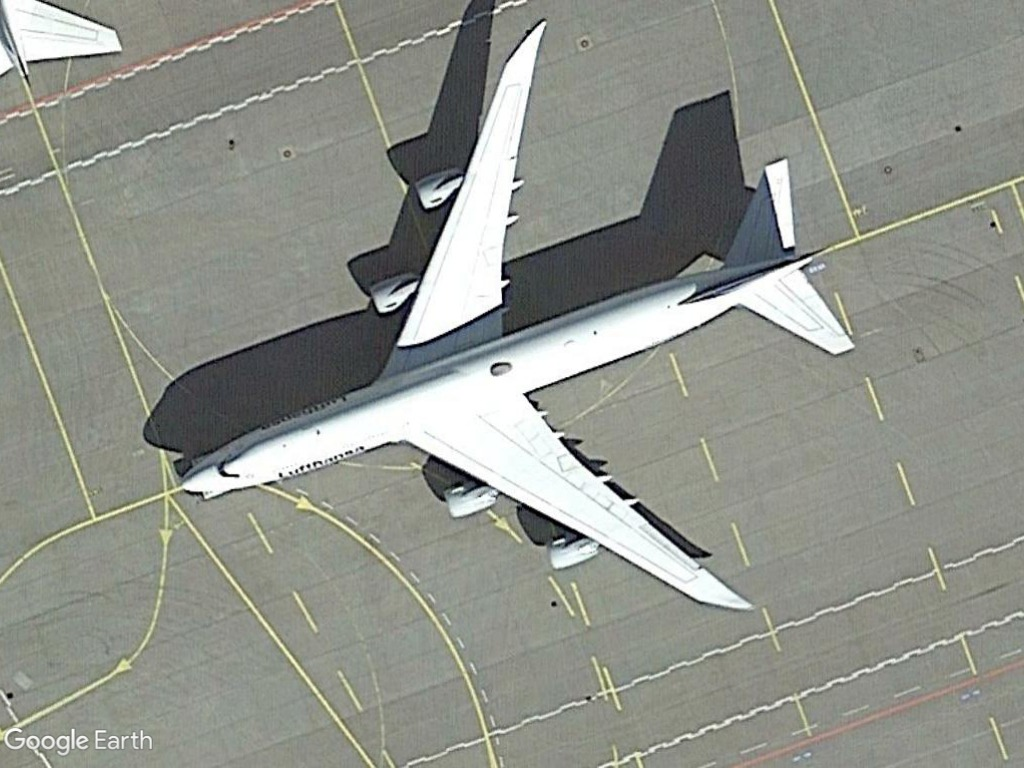airliner: (150, 6, 911, 648)
